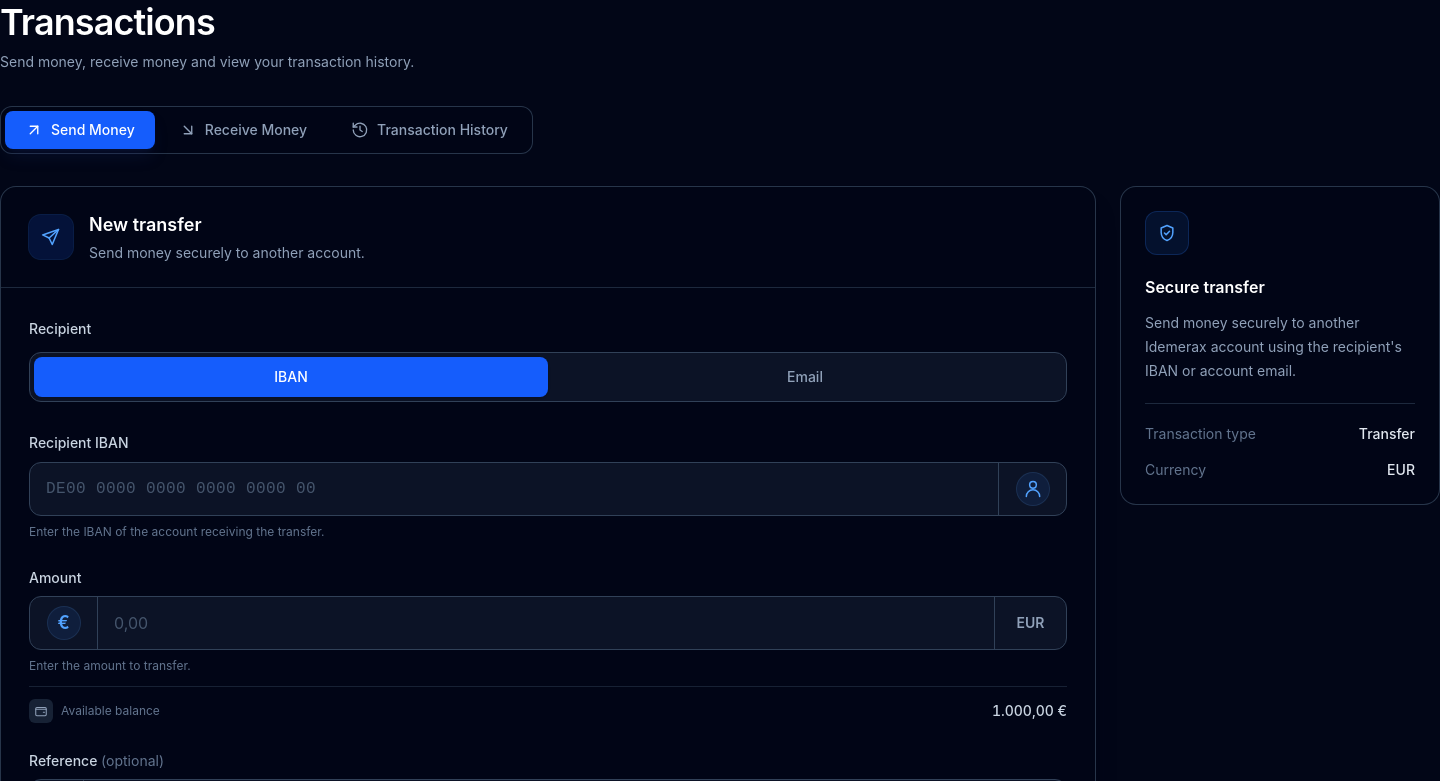
TransactionsPage › creates a transaction and refreshes the account balance
The width and height of the screenshot is (1440, 781).
Expected: the text "1.000,00 €" is shown, [992,701,1067,721]
Type "DE89370400440532013000" into the field labelled "Recipient IBAN".
click(514, 489); type("DE89370400440532013000")  # box [30,463,998,515]
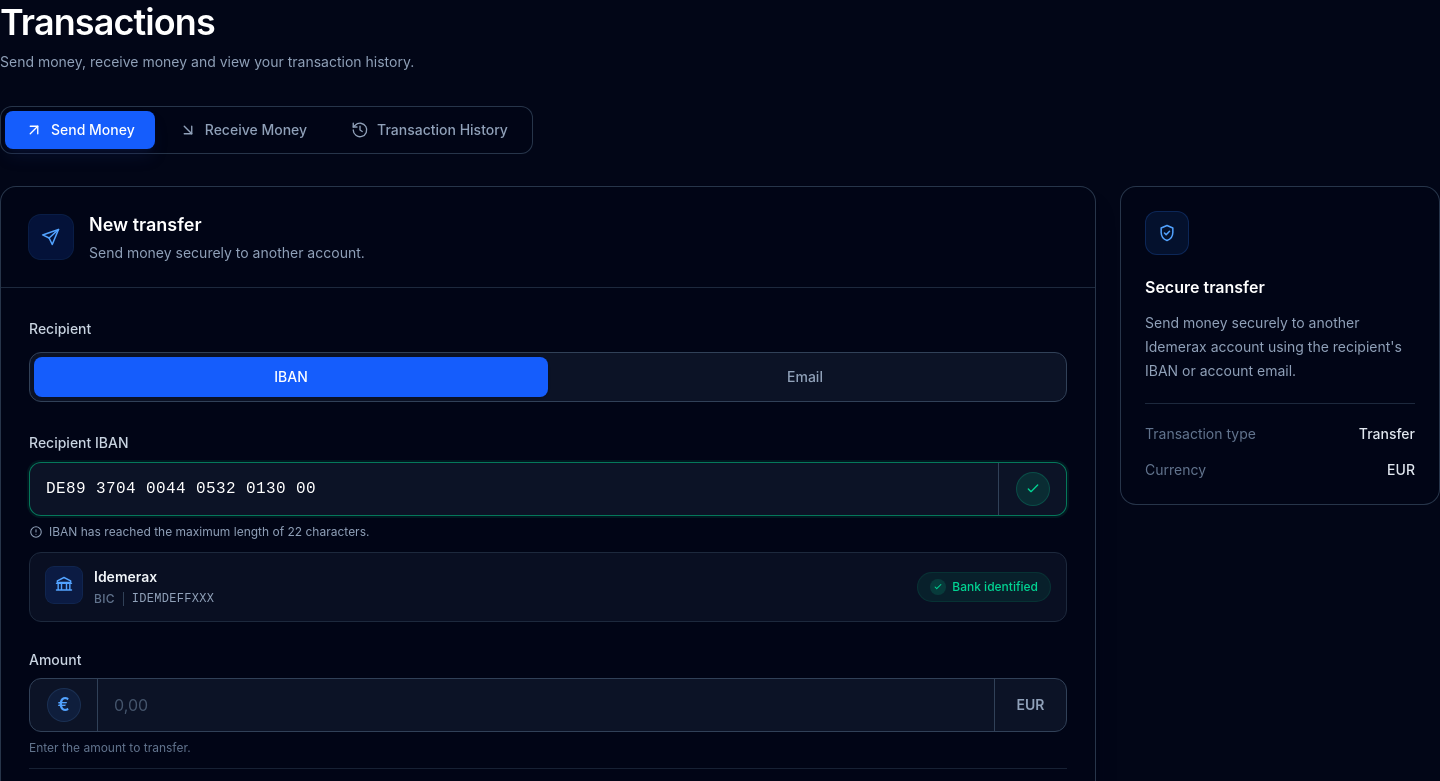
Type "250" into the field labelled "Amount".
click(546, 705); type("250")  # box [98,679,994,731]
(page scrolled)
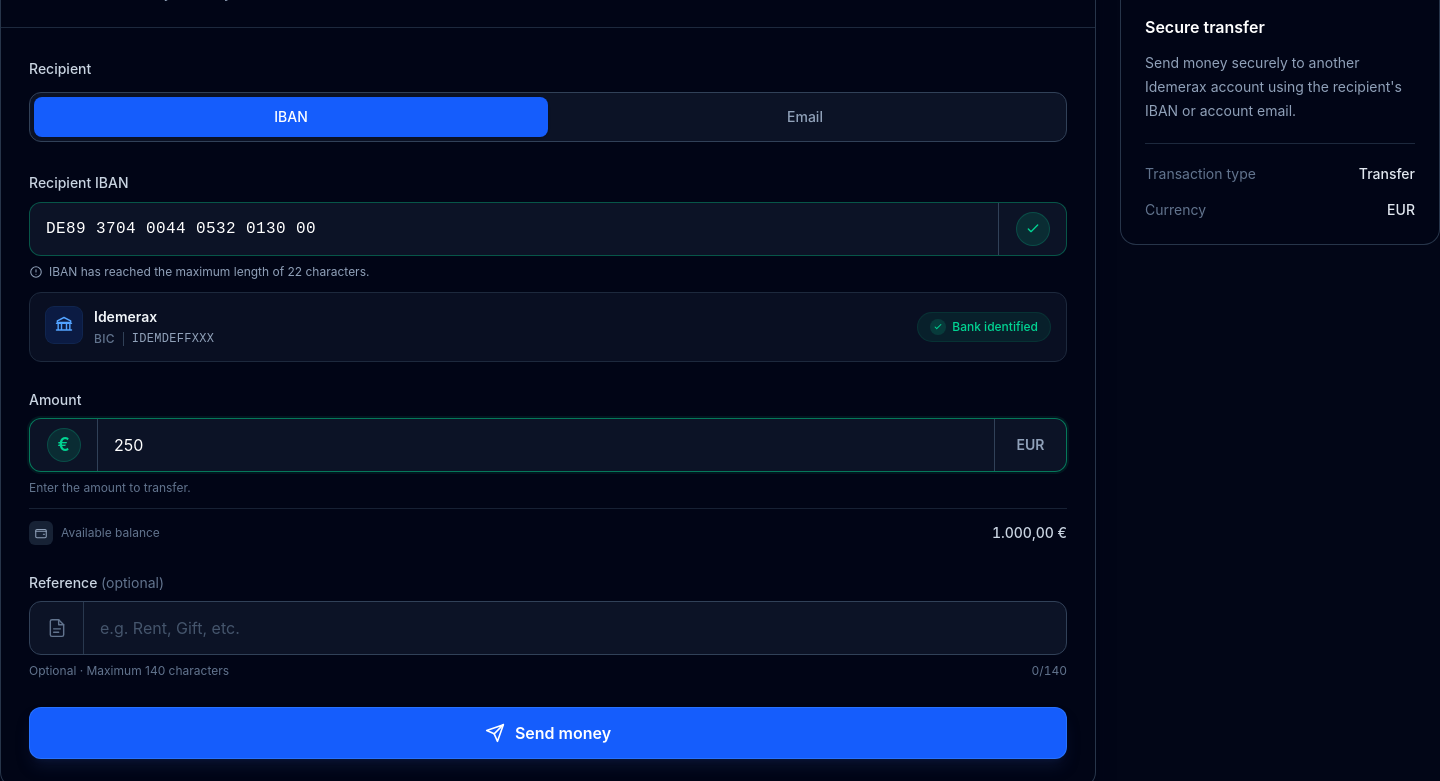
Click the button "Send money".
click(548, 733)  # box [29,707,1067,759]
(page scrolled)
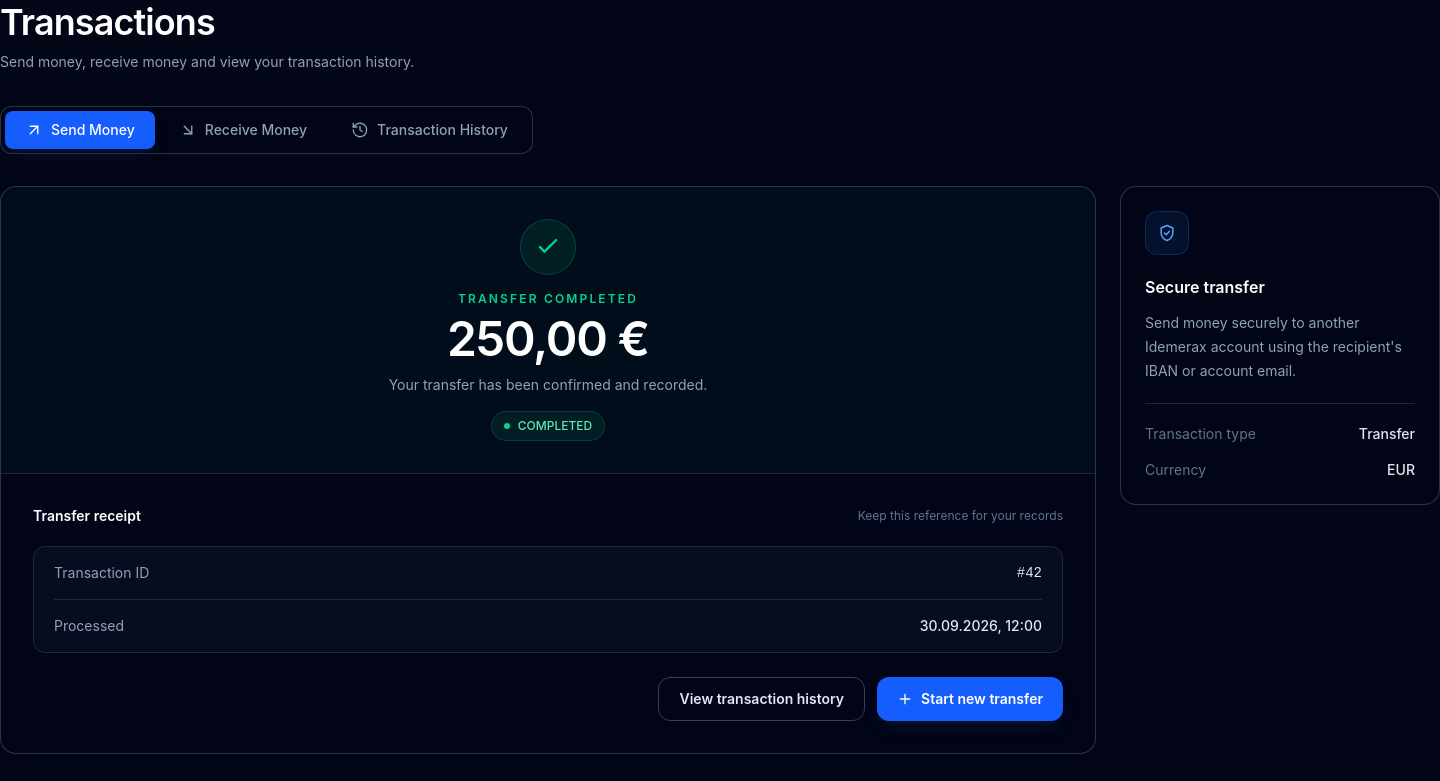
Now the text "Transfer completed" is shown, box [458,291,638,306]
Now the heading "250,00 €" is shown, box [447,309,649,368]
Now the text "#42" is shown, box [1017,563,1042,583]
Click the button "Start new transfer".
click(970, 699)  # box [877,677,1063,721]
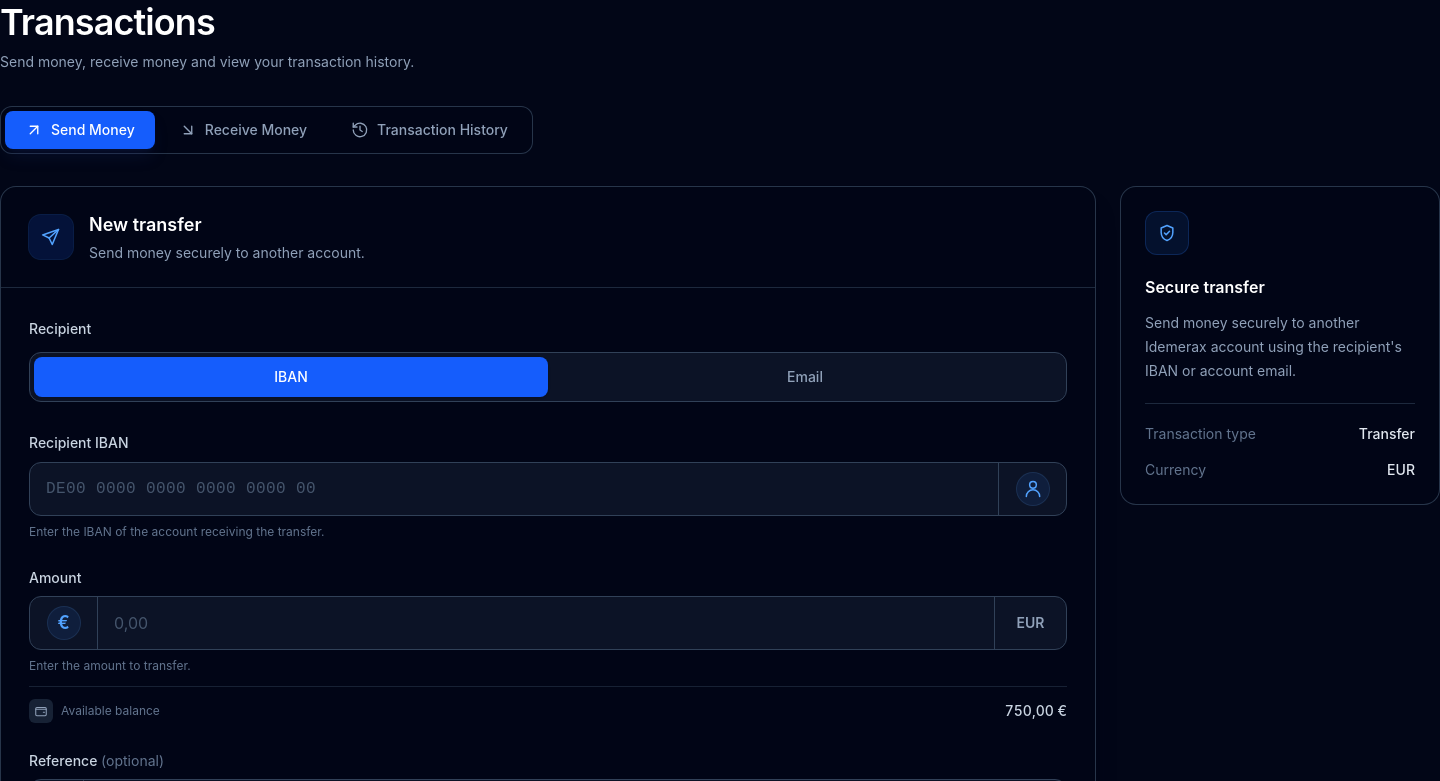
Now the text "750,00 €" is shown, box [1005,701,1067,721]
